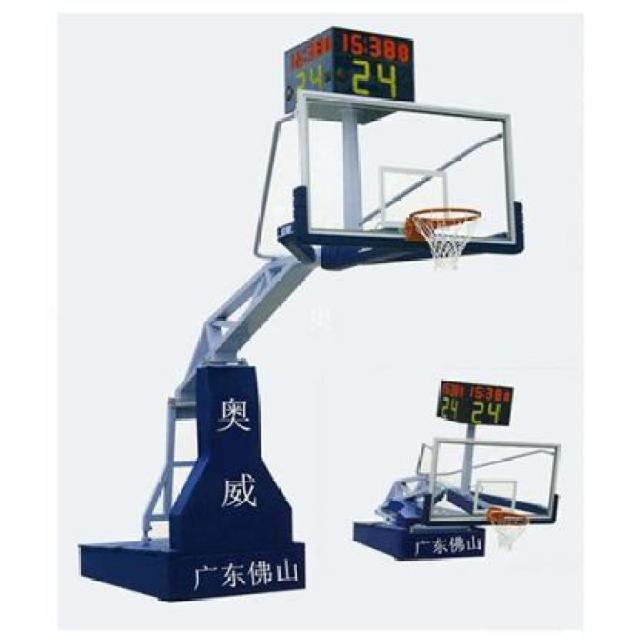rim: (408, 206, 484, 272), (486, 509, 528, 563)
